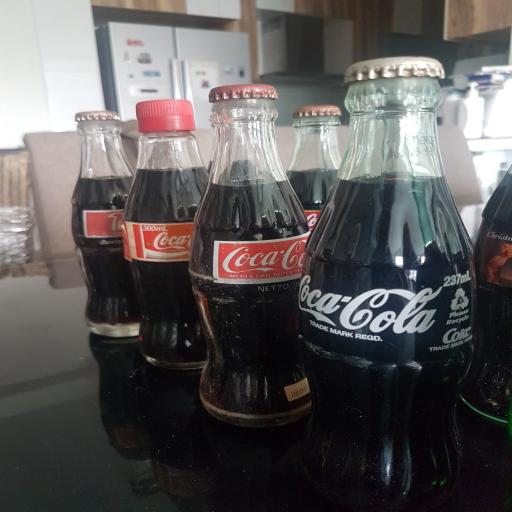glass bottle: (301, 53, 480, 512), (196, 82, 323, 431), (120, 99, 209, 367), (70, 112, 144, 339), (286, 103, 348, 214)
